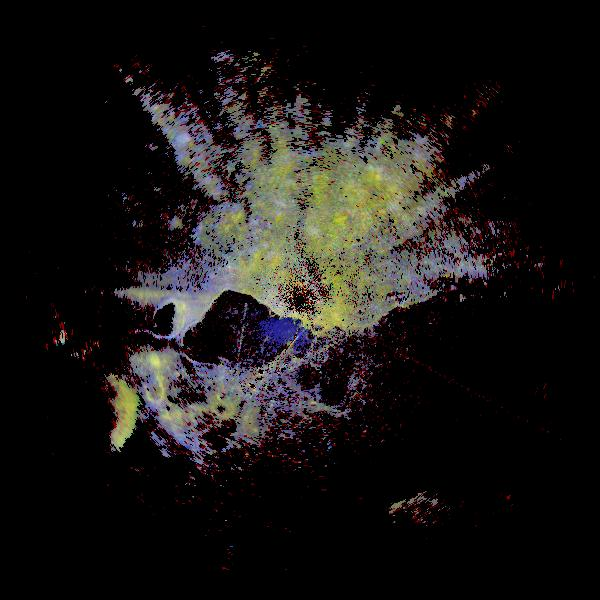roost: (10, 334, 166, 490)
